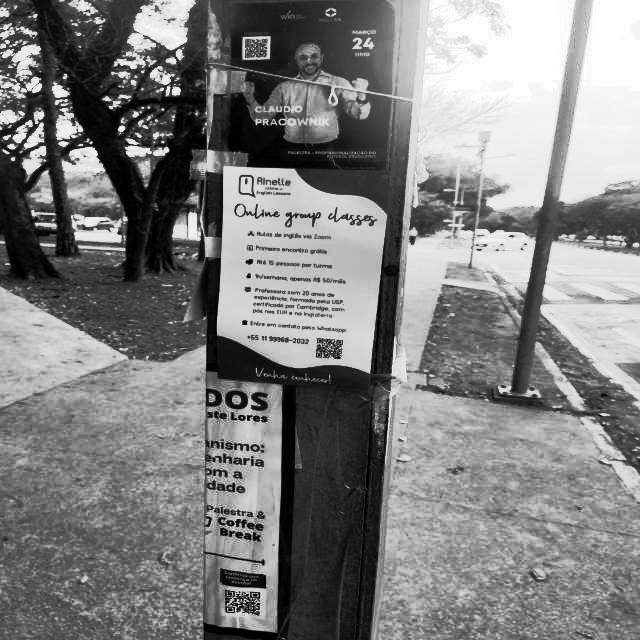qr_code: (225, 590, 260, 616), (316, 339, 343, 360), (246, 39, 268, 57)
